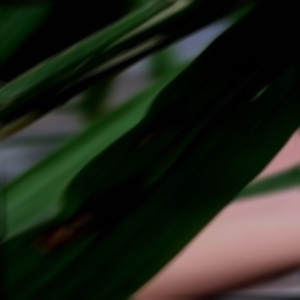Brown_Spot: (27, 169, 161, 262), (133, 86, 210, 154)
